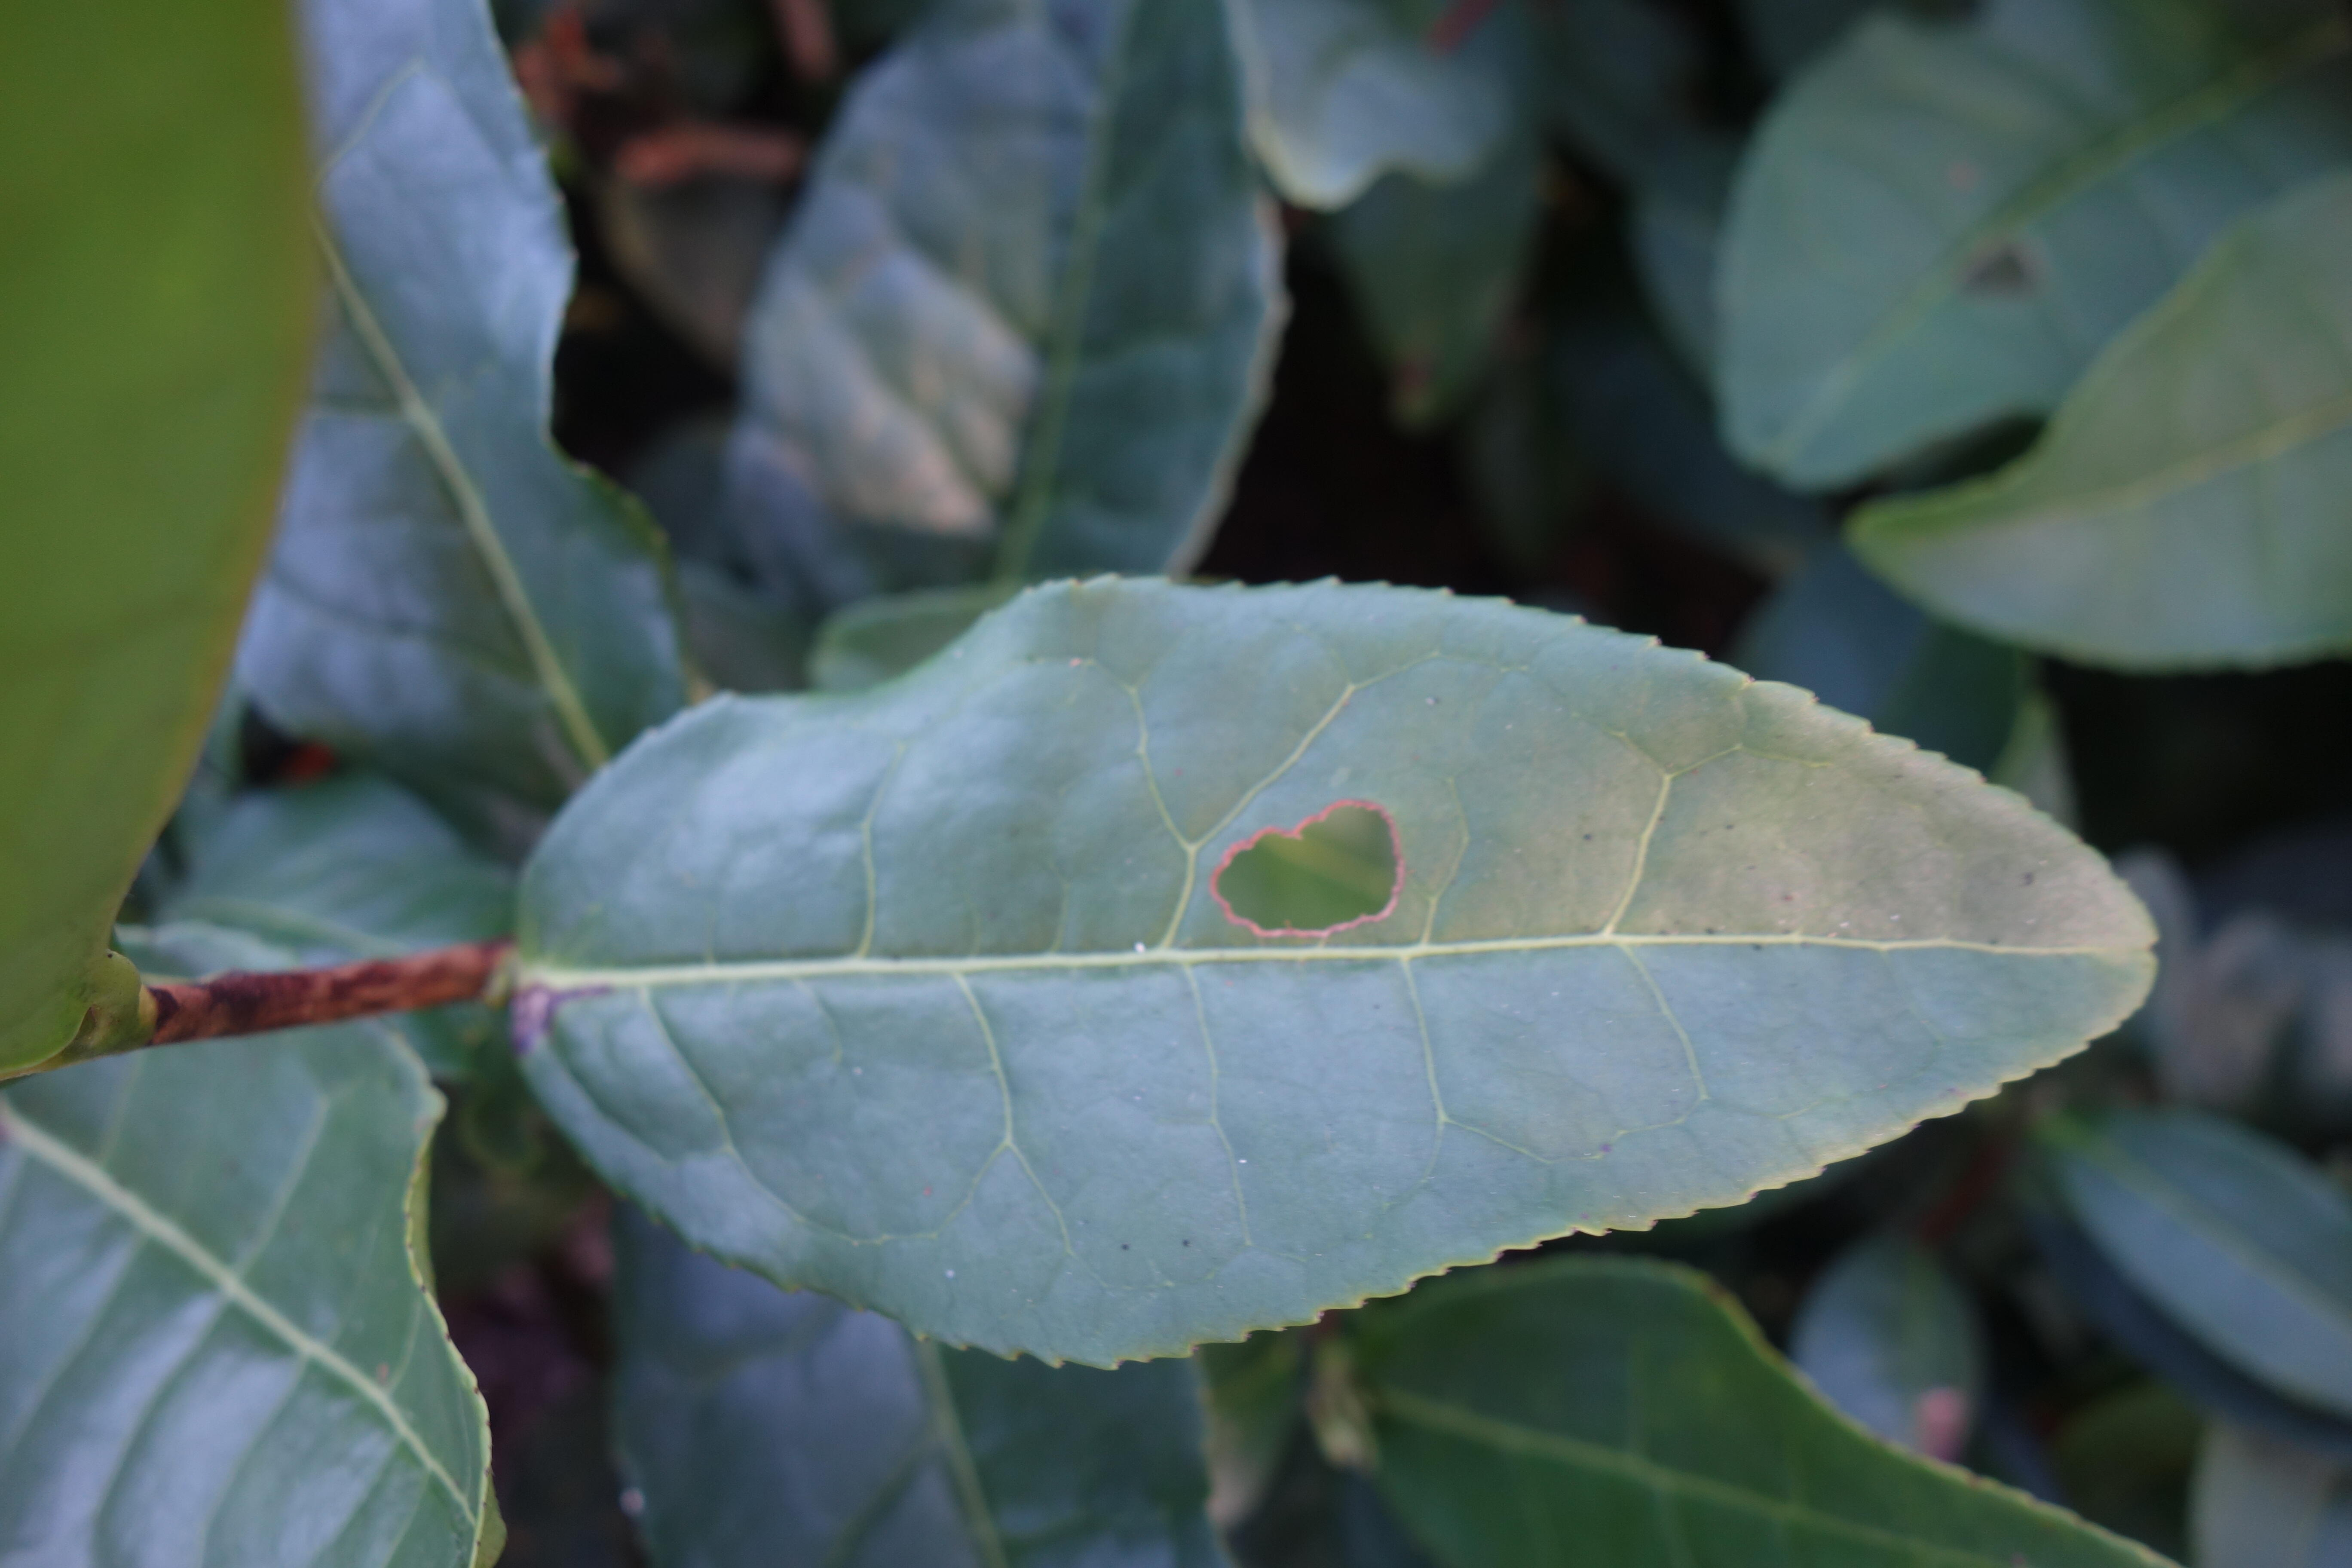chihuo_low: (513, 569, 2161, 1370)
